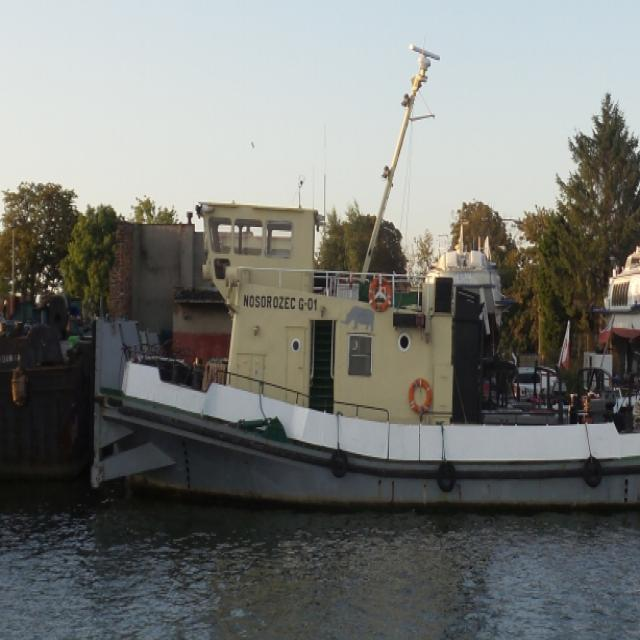tugboat: (86, 189, 640, 550)
